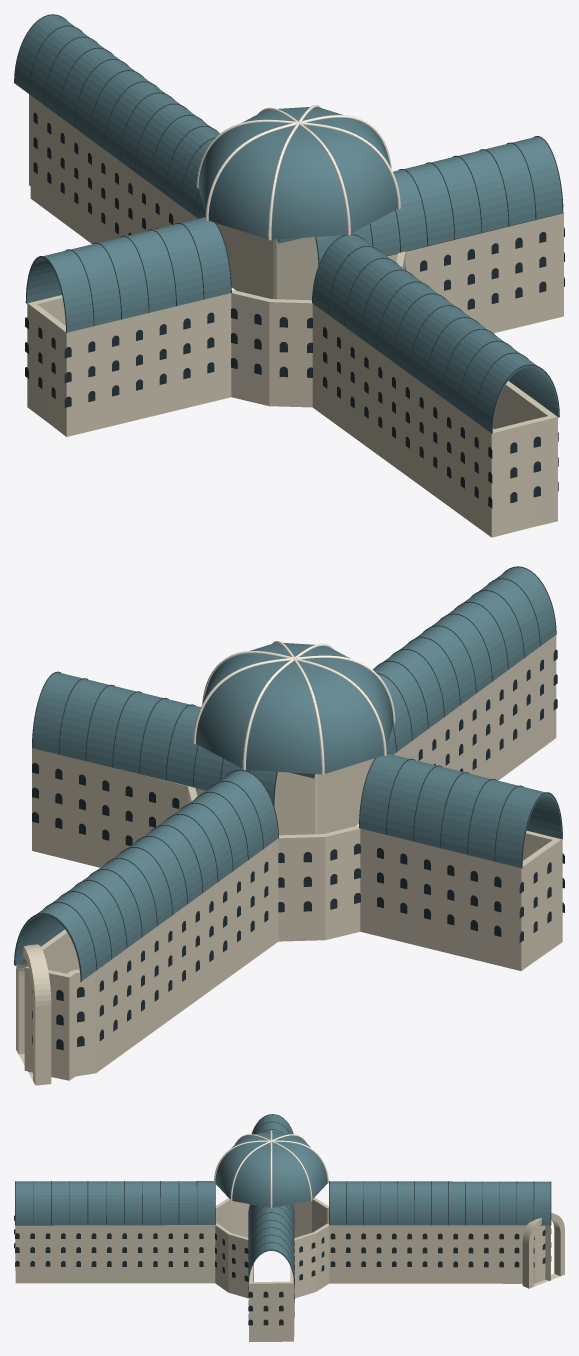
File: galleria-vittorio.glb
3 renders of one model, top to bottom at view 1: azimuth 30°, elevation 25°; view 2: azimuth 150°, elevation 25°; view 3: azimuth 270°, elevation 25°, orthographic. The views are drawn at different scales.
Parts seen in each view (by area): view 1: cross-gallery-walls, barrel-vault, octagonal-glass-dome, facade-windows, vault-iron-ribs, octagonal-glass-dome-rib; view 2: cross-gallery-walls, barrel-vault, octagonal-glass-dome, facade-windows, vault-iron-ribs, triumphal-entrance, octagonal-glass-dome-rib; view 3: cross-gallery-walls, barrel-vault, octagonal-glass-dome, facade-windows, vault-iron-ribs, triumphal-entrance, octagonal-glass-dome-rib.
Part boxes in pixels (left/top/right/bottom): cross-gallery-walls: left=27, top=94, right=563, bottom=537; barrel-vault: left=14, top=15, right=562, bottom=433; octagonal-glass-dome: left=198, top=107, right=397, bottom=239; facade-windows: left=25, top=112, right=564, bottom=508; vault-iron-ribs: left=14, top=14, right=563, bottom=433; octagonal-glass-dome-rib: left=196, top=105, right=400, bottom=240; cross-gallery-walls: left=24, top=635, right=562, bottom=1080; barrel-vault: left=14, top=567, right=562, bottom=981; octagonal-glass-dome: left=196, top=643, right=393, bottom=774; facade-windows: left=32, top=649, right=564, bottom=1050; vault-iron-ribs: left=14, top=566, right=562, bottom=981; triumphal-entrance: left=16, top=944, right=51, bottom=1085; octagonal-glass-dome-rib: left=193, top=641, right=395, bottom=775; cross-gallery-walls: left=15, top=1197, right=550, bottom=1341; barrel-vault: left=15, top=1114, right=550, bottom=1283; octagonal-glass-dome: left=215, top=1131, right=327, bottom=1207; facade-windows: left=14, top=1215, right=551, bottom=1325; vault-iron-ribs: left=15, top=1114, right=551, bottom=1282; triumphal-entrance: left=522, top=1212, right=564, bottom=1288; octagonal-glass-dome-rib: left=214, top=1130, right=328, bottom=1208.
Bounding box in the file's own units: 9.38 × 4.3 × 16.
